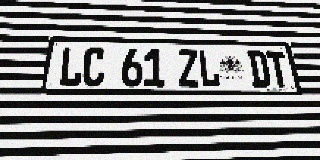1: (143, 48, 165, 87)
6: (121, 48, 143, 87)
C: (81, 47, 106, 87)
D: (247, 51, 272, 87)
L: (58, 47, 84, 87), (198, 50, 221, 87)
T: (266, 51, 291, 87)
Z: (178, 49, 200, 87)
